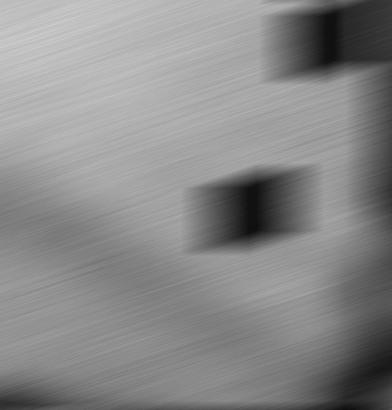Airbag: (0, 0, 392, 410), (374, 3, 392, 410)
